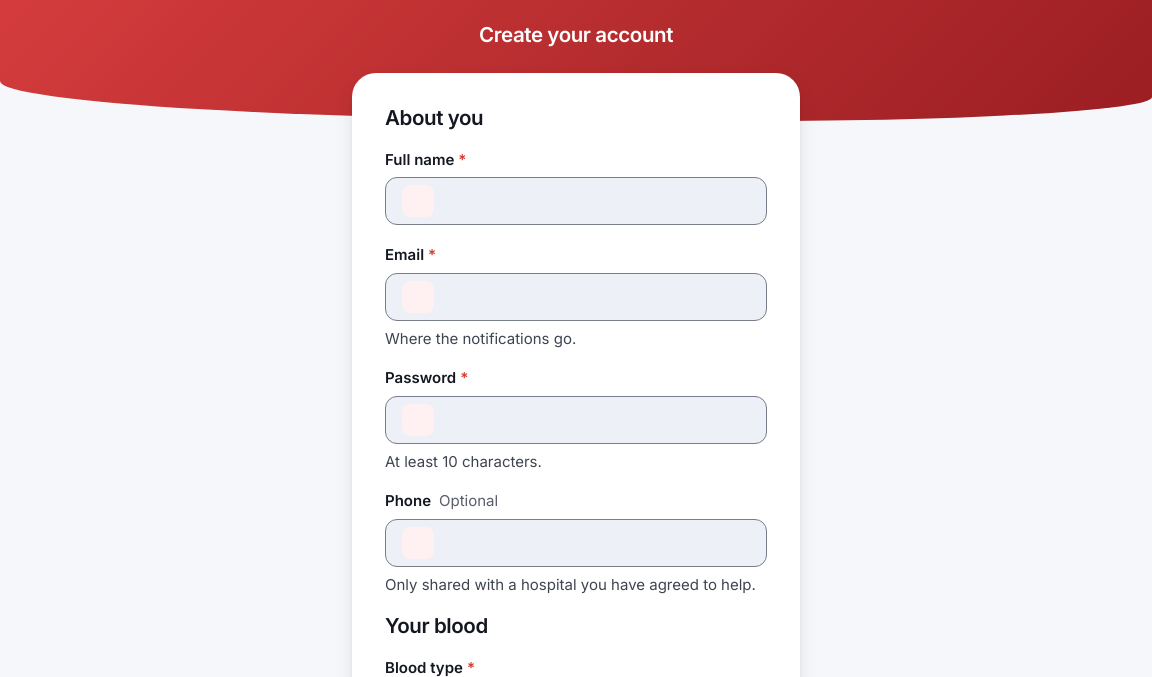
Scenario: donor registration › registers a donor and confirms it
This screenshot has width=1152, height=677.
In the field labelled "Full name*": (598, 201) x1=446 y1=178 x2=750 y2=224, type "Ana Petrovska"
In the field labelled "Email*": (598, 297) x1=446 y1=274 x2=750 y2=320, type "ana@example.com"
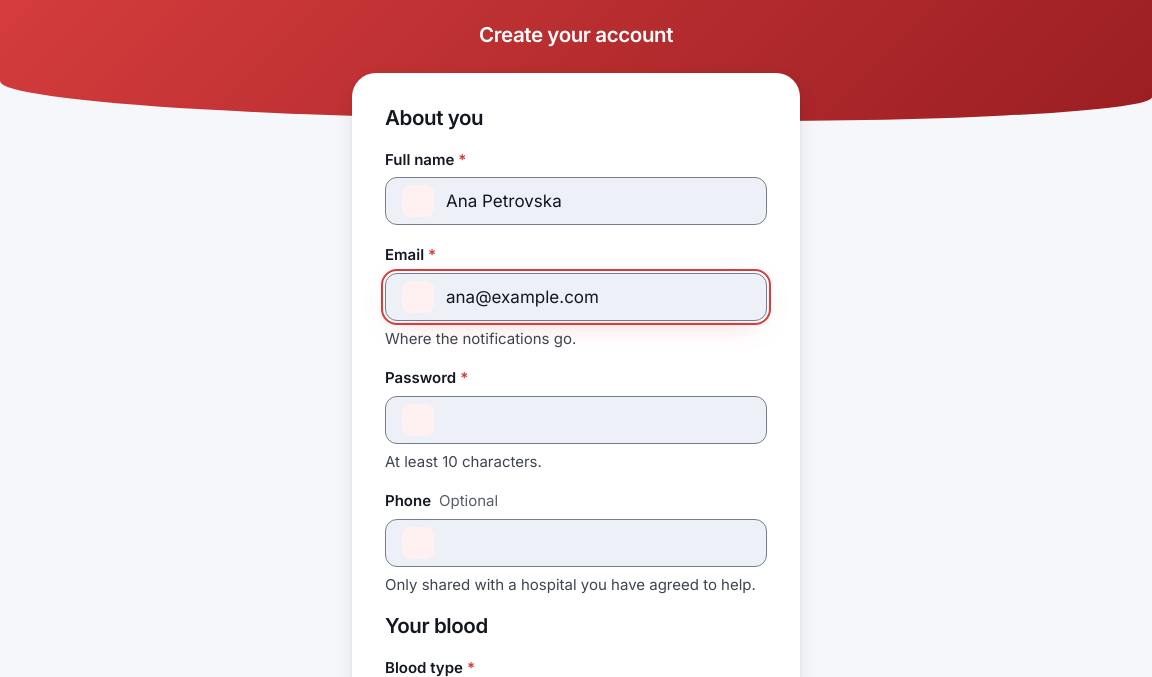
In the password field labelled "Password*": (576, 420) x1=446 y1=397 x2=706 y2=443, type "a-long-enough-password"
(page scrolled)
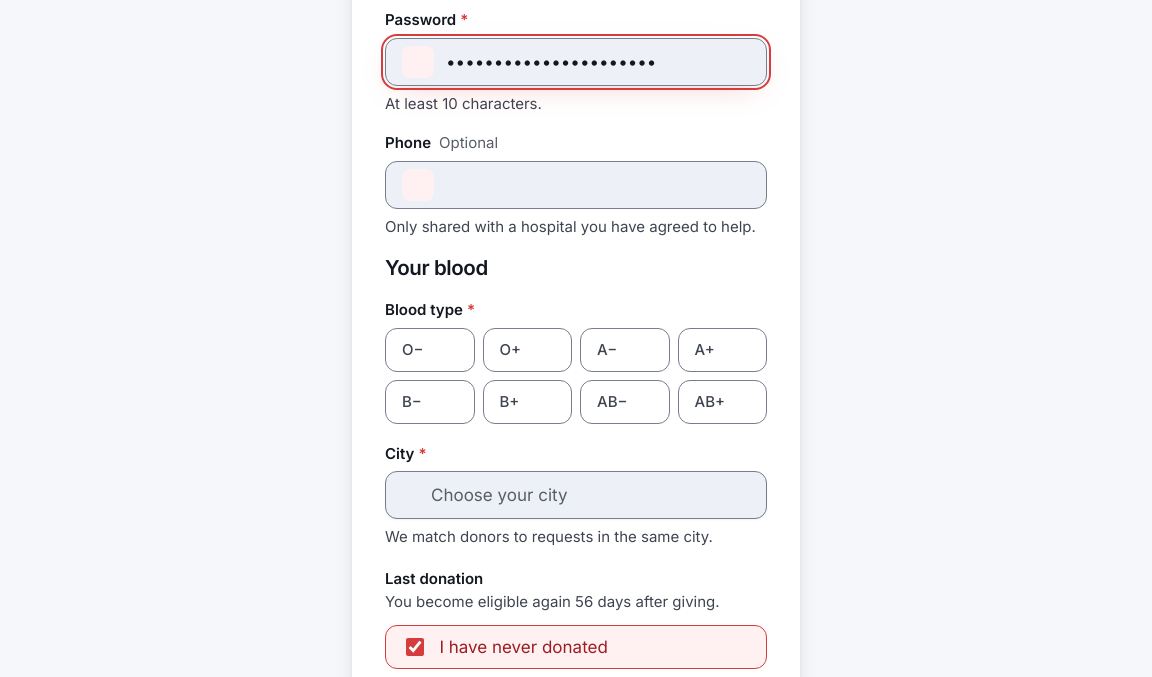
Click the button named "O negative": (430, 350) x1=385 y1=328 x2=474 y2=372
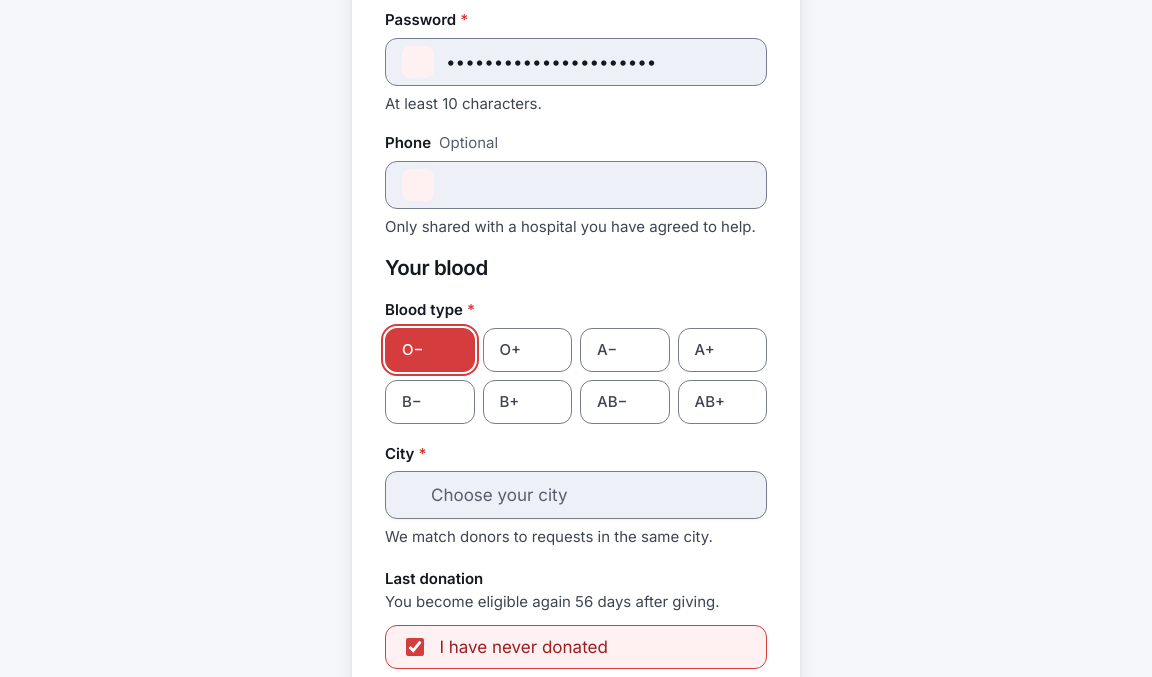
Click the dropdown labelled "Choose your city": (499, 495) x1=385 y1=471 x2=767 y2=519
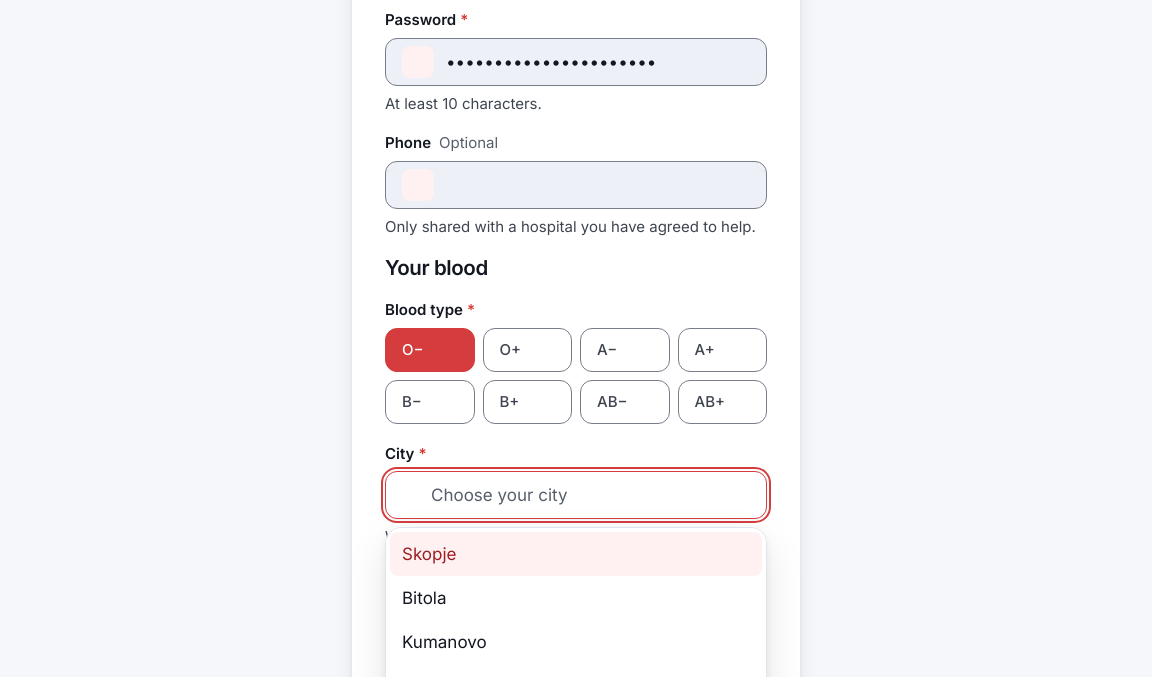
Click the option "Skopje": (429, 554) x1=390 y1=532 x2=762 y2=576
(page scrolled)
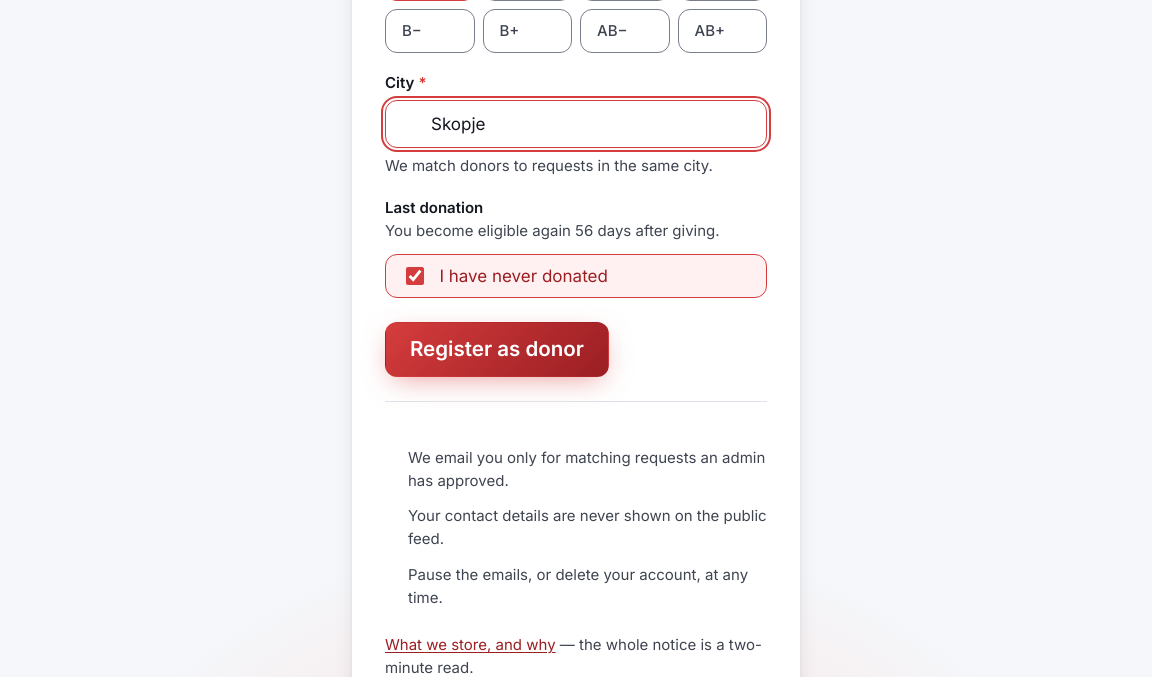
Click the button "Register as donor": (497, 349) x1=385 y1=322 x2=609 y2=377
(page scrolled)
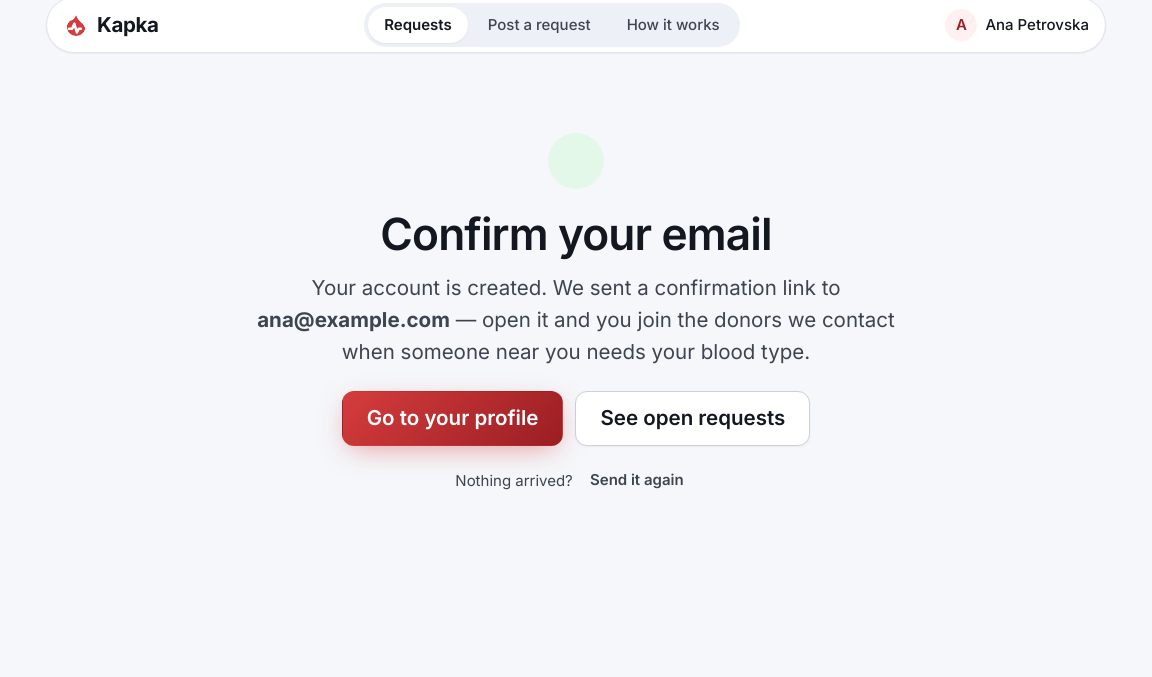
expect the heading "Confirm your email" is shown: met, box x1=380 y1=207 x2=772 y2=261
